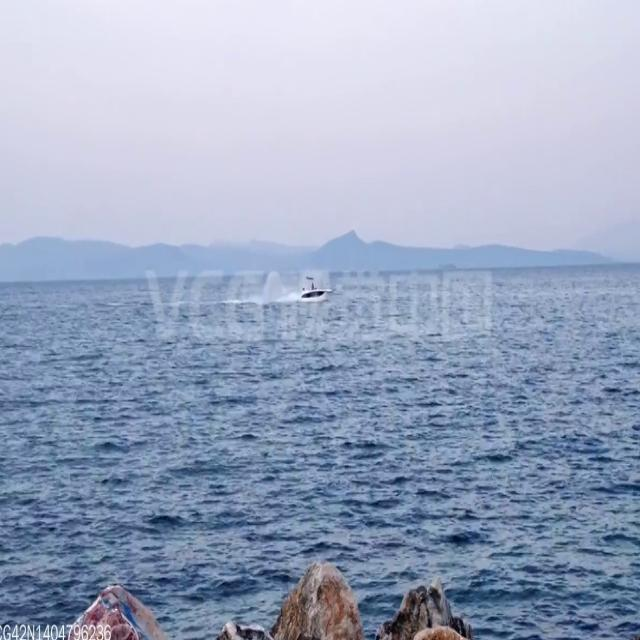houseboat: (299, 274, 331, 304)
